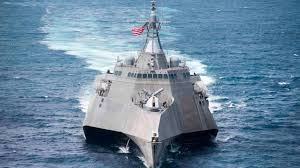tau_muctieu: (89, 10, 215, 167)
